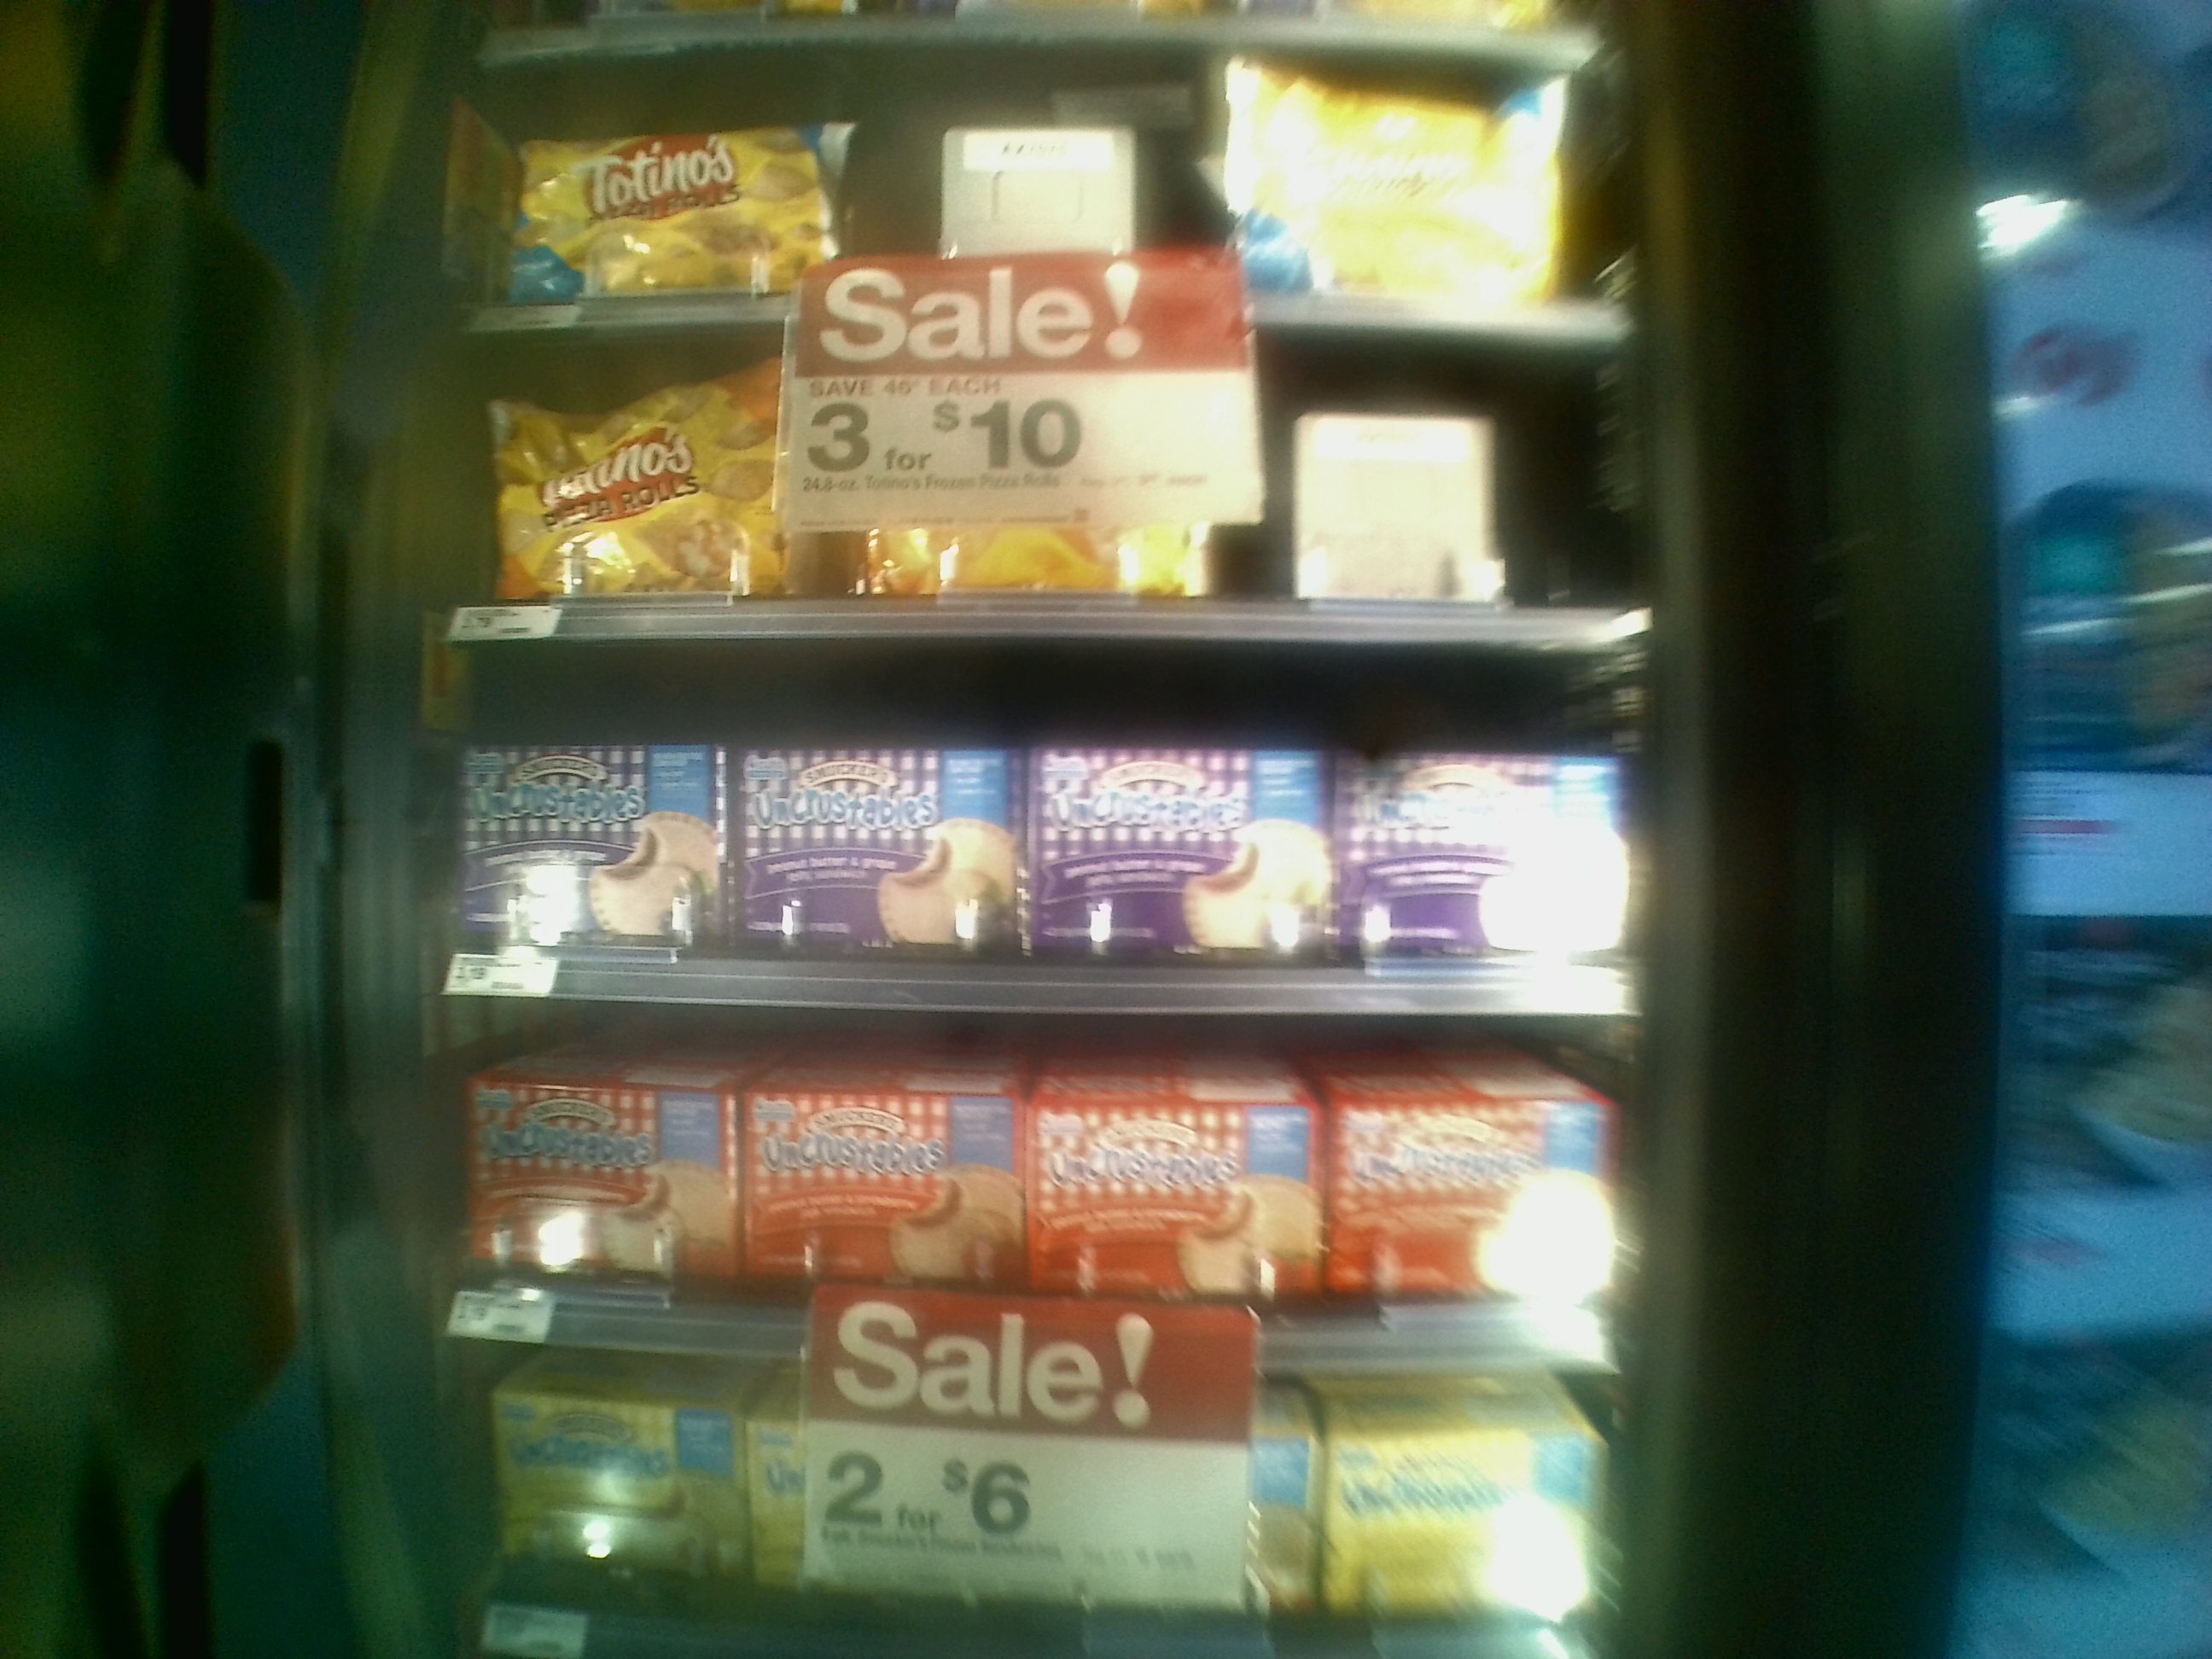shelf: (404, 976, 1663, 1373), (418, 622, 1642, 1011), (435, 301, 1660, 652)
